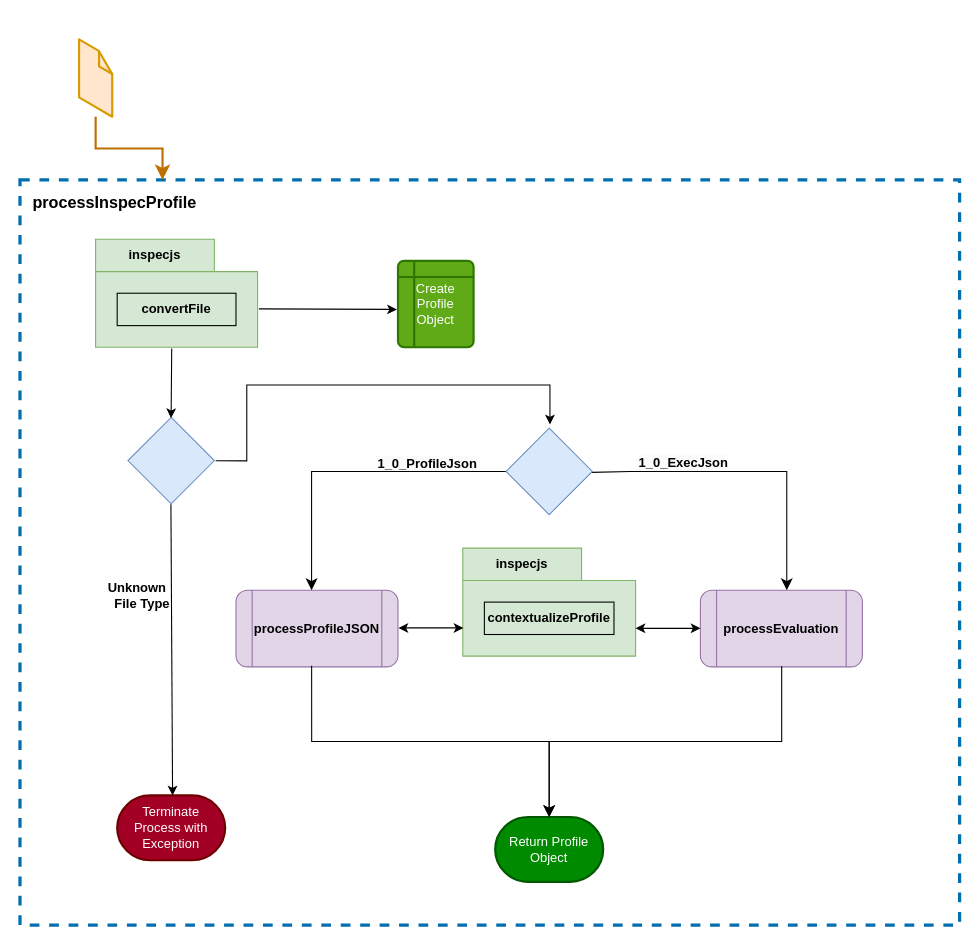
The diagram is 980 pixels wide and 945 high, and some of its shapes have lost their labels. The box of each missing label's shape, as (x1, y1, x2, y2) in pixels:
Converted: (127, 416, 214, 504)
Inspec Profile String: (78, 38, 112, 117)
Type: (505, 427, 592, 515)
